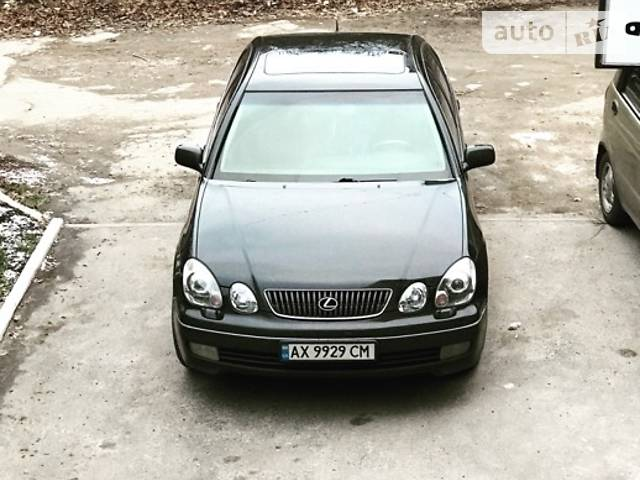car: (168, 31, 497, 383)
plate: (280, 339, 376, 362)
